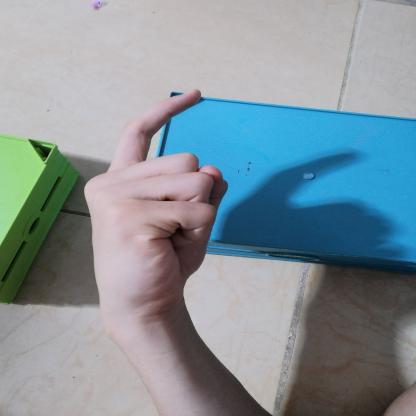RAA: (75, 79, 235, 321)
